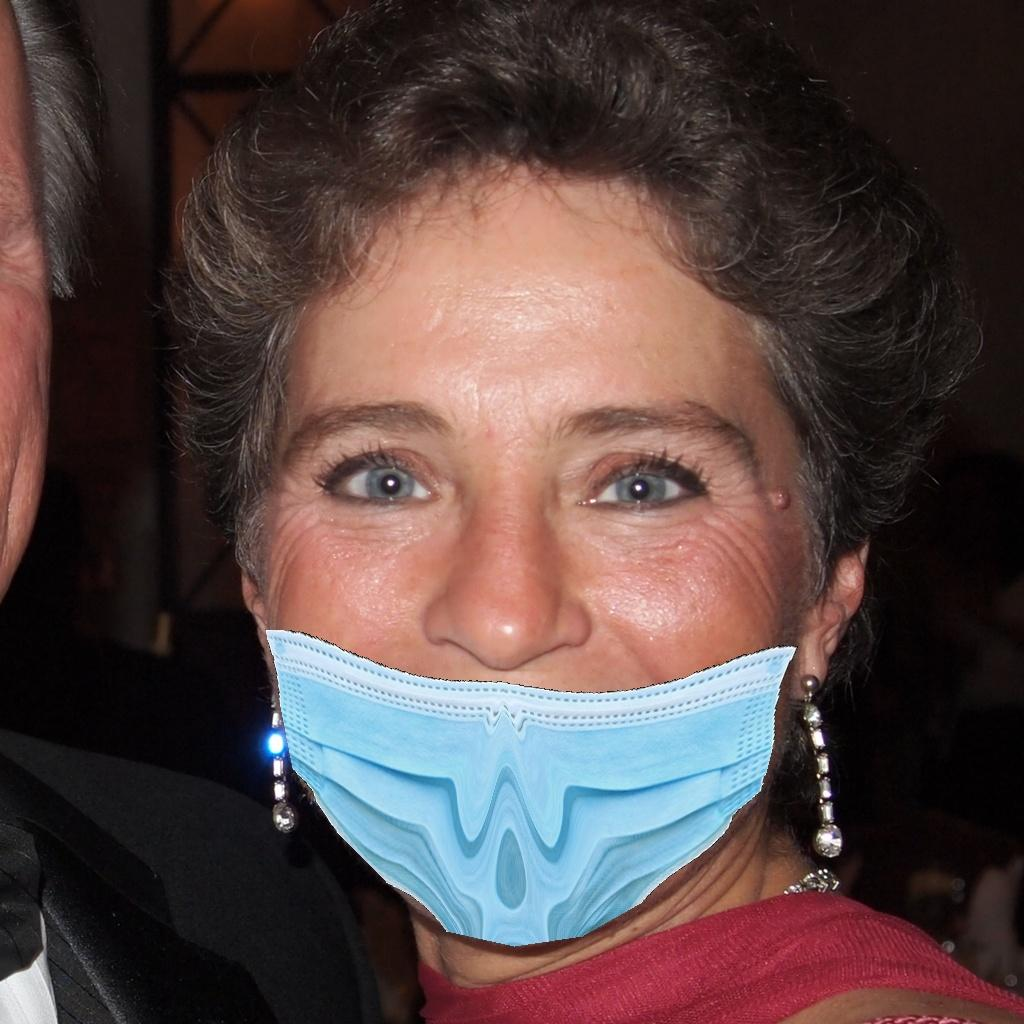Máscara Incorreta: (210, 210, 824, 938)
